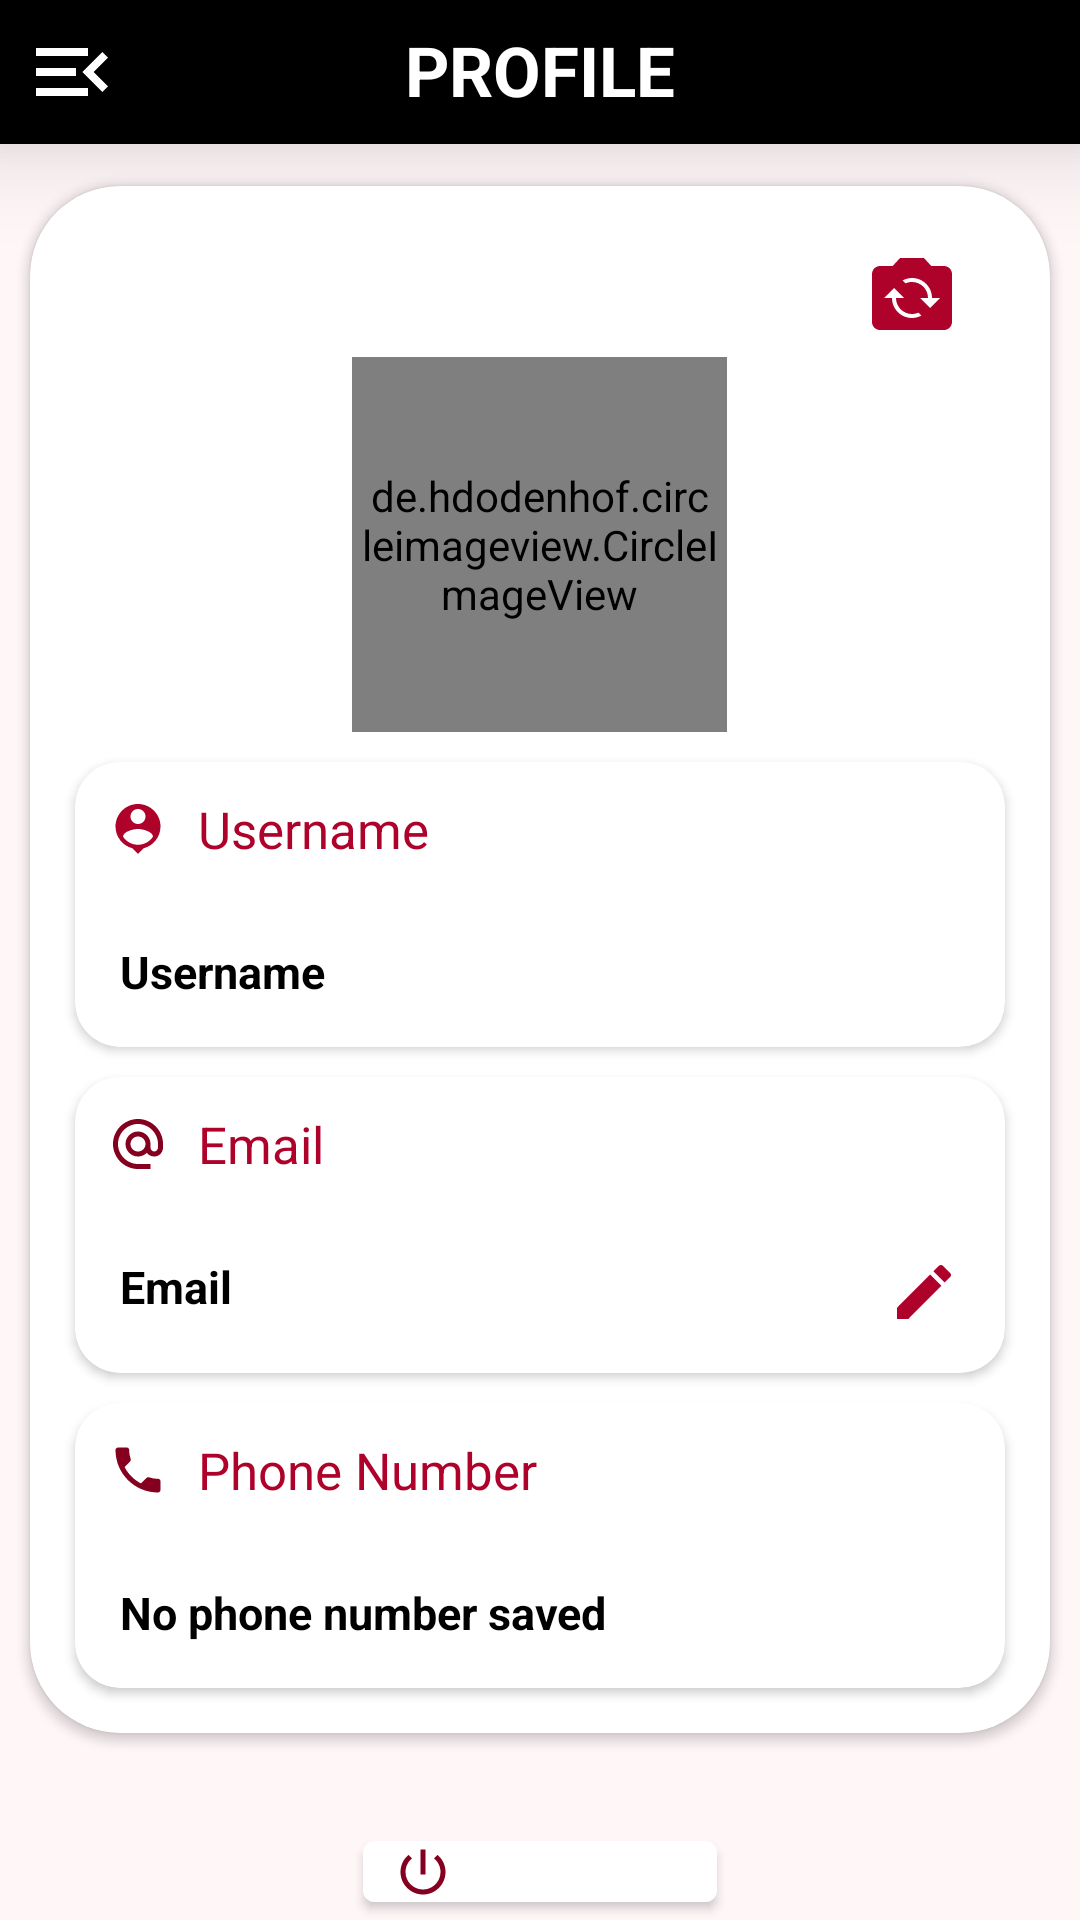

Named icons in this screenshot (1080 x 1920) and their centers, (x=x, y=y):
Open Navigation Drawer: (x=72, y=72)
